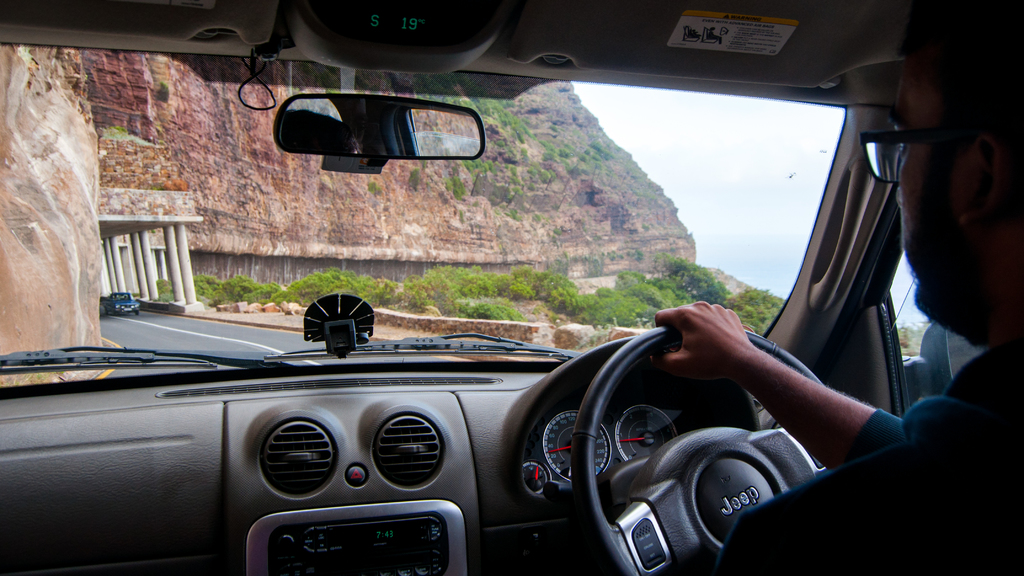Car: (0, 0, 1023, 575), (104, 291, 138, 313)
